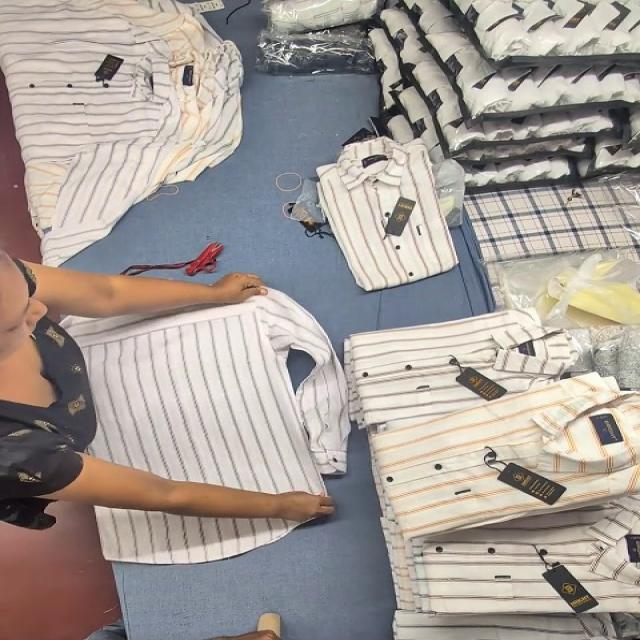new-garment: (67, 291, 349, 494), (97, 509, 295, 563)
